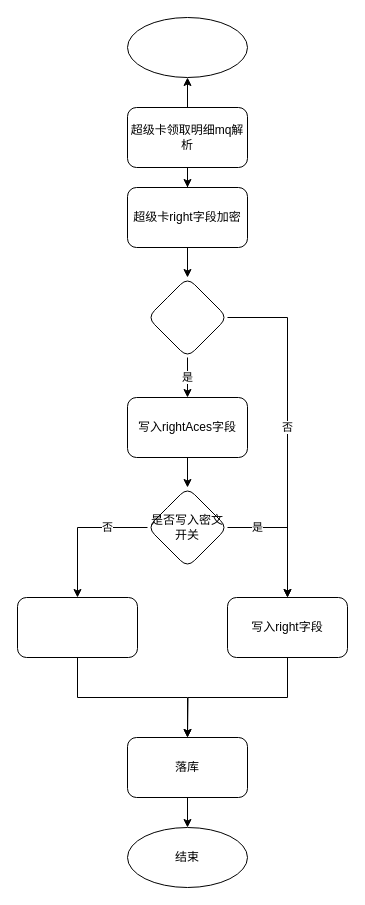
This 365x905 diagram has some shape labels left out. Each missing label, with the centre of its shape:
"加密是否成功" goes at point (187, 317).
"开始" goes at point (187, 47).
"清除right字段值" goes at point (77, 627).
